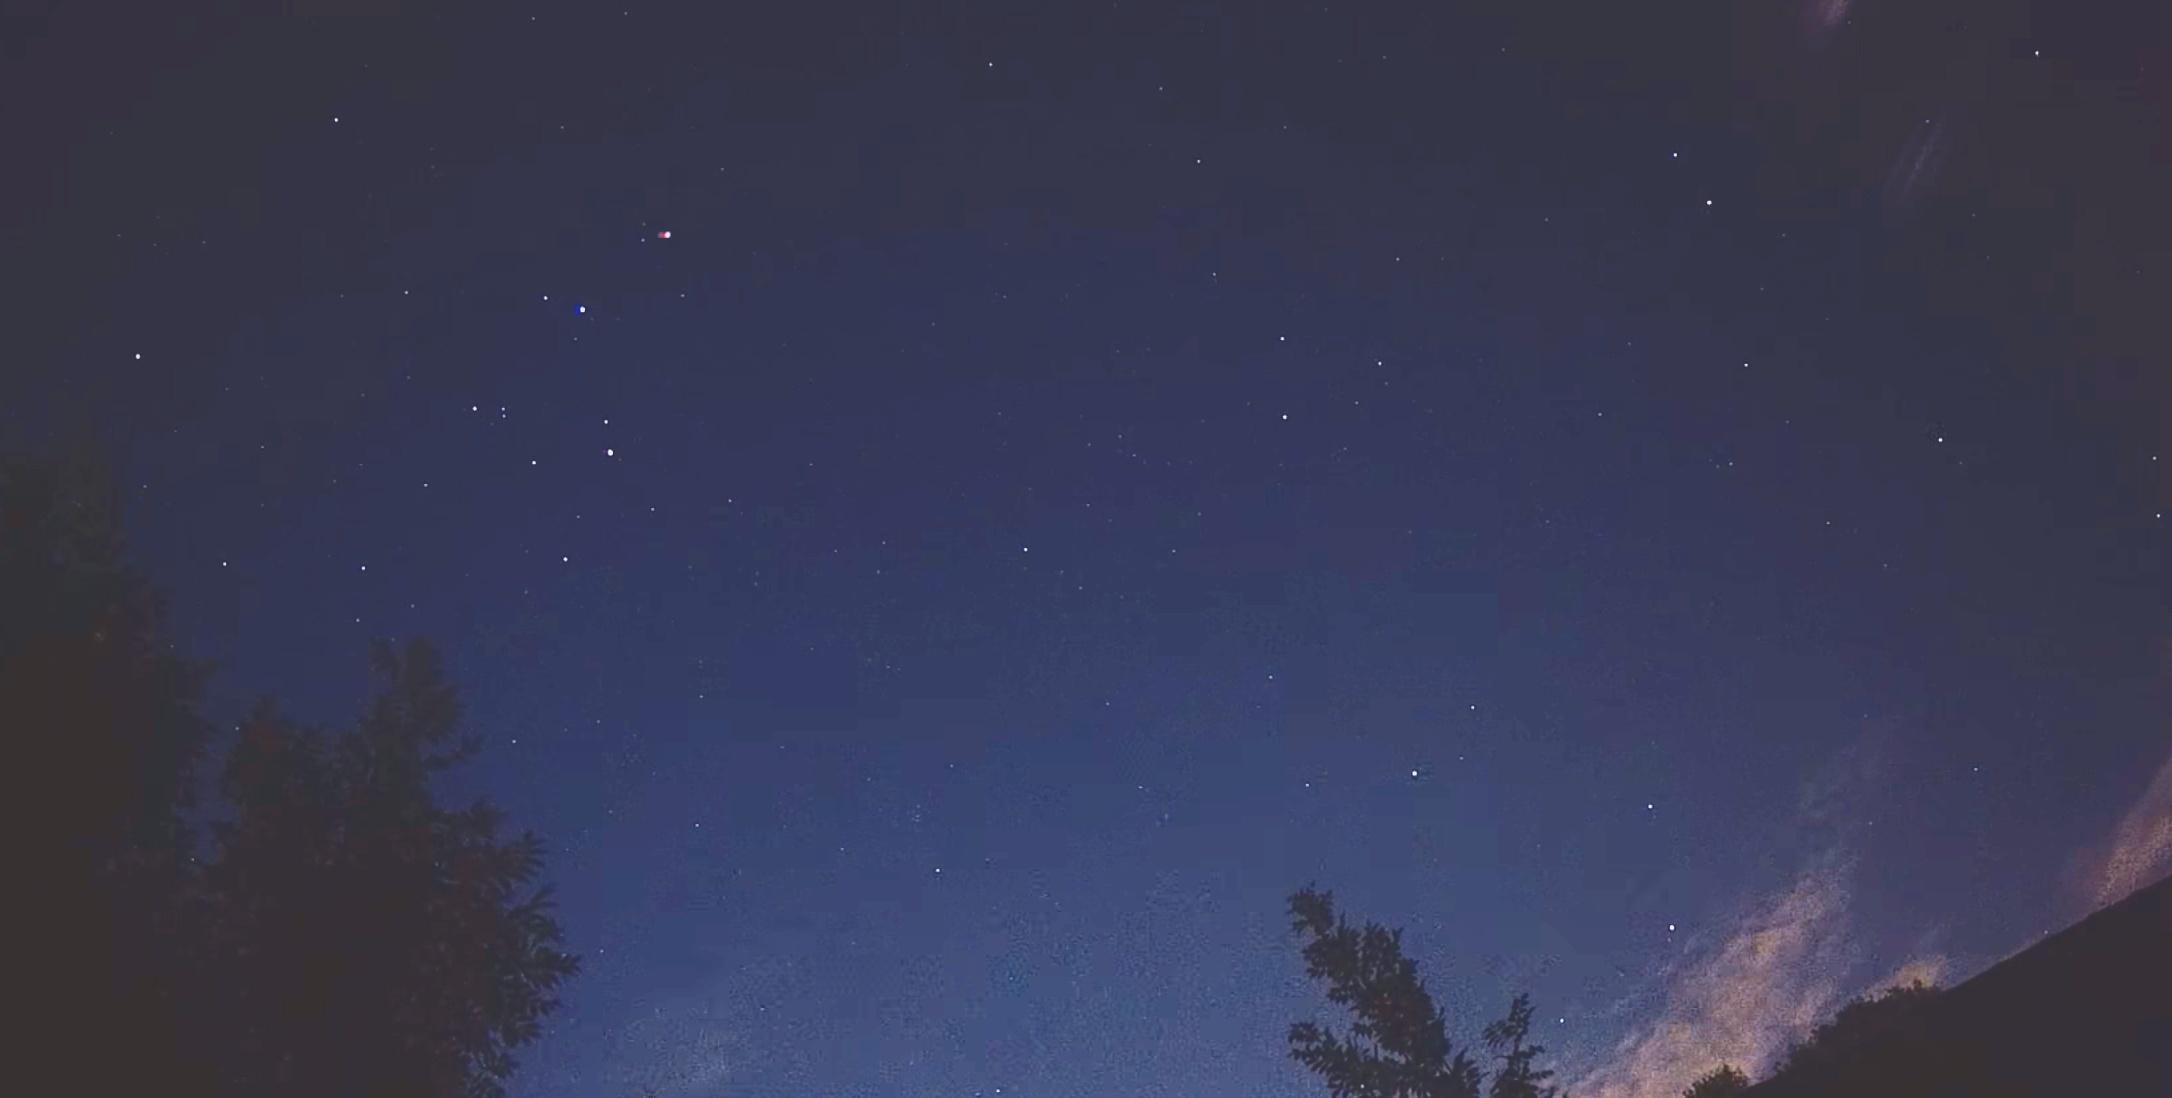Plane: (625, 216, 700, 252)
